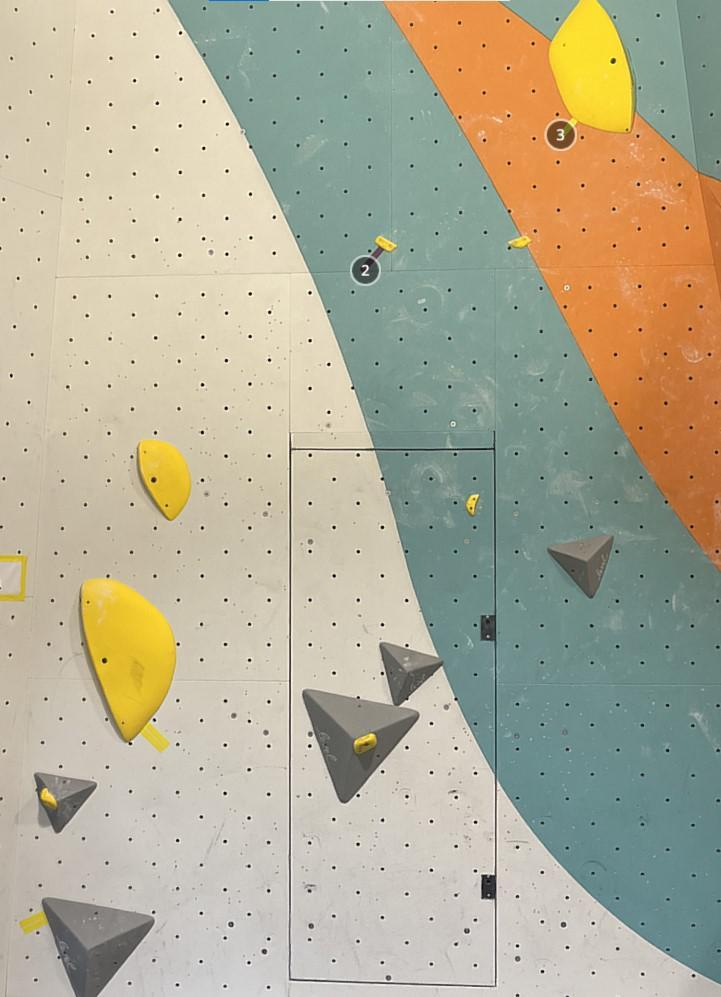hold: (81, 578, 176, 741), (548, 0, 635, 133), (137, 439, 191, 521), (353, 733, 378, 755), (39, 787, 58, 811), (375, 235, 398, 252), (466, 493, 480, 516), (508, 235, 532, 248)
volume: (302, 689, 419, 803), (42, 897, 155, 997), (548, 535, 614, 598), (380, 642, 444, 706), (34, 772, 97, 833)
